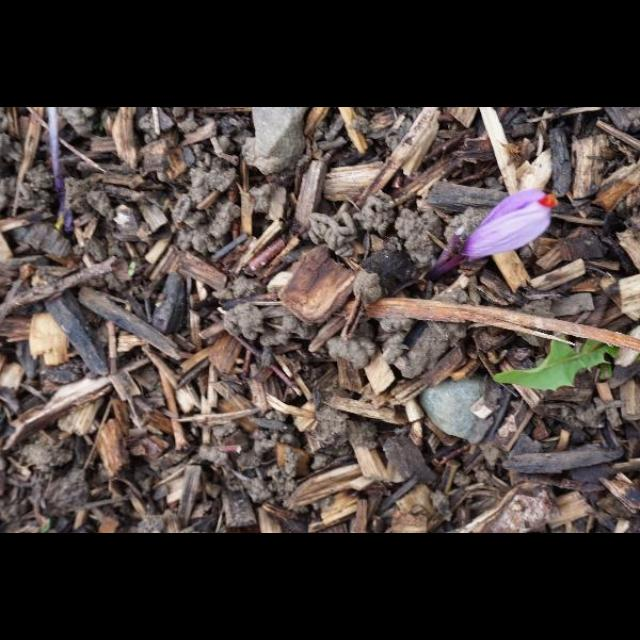flower: (458, 189, 560, 263)
